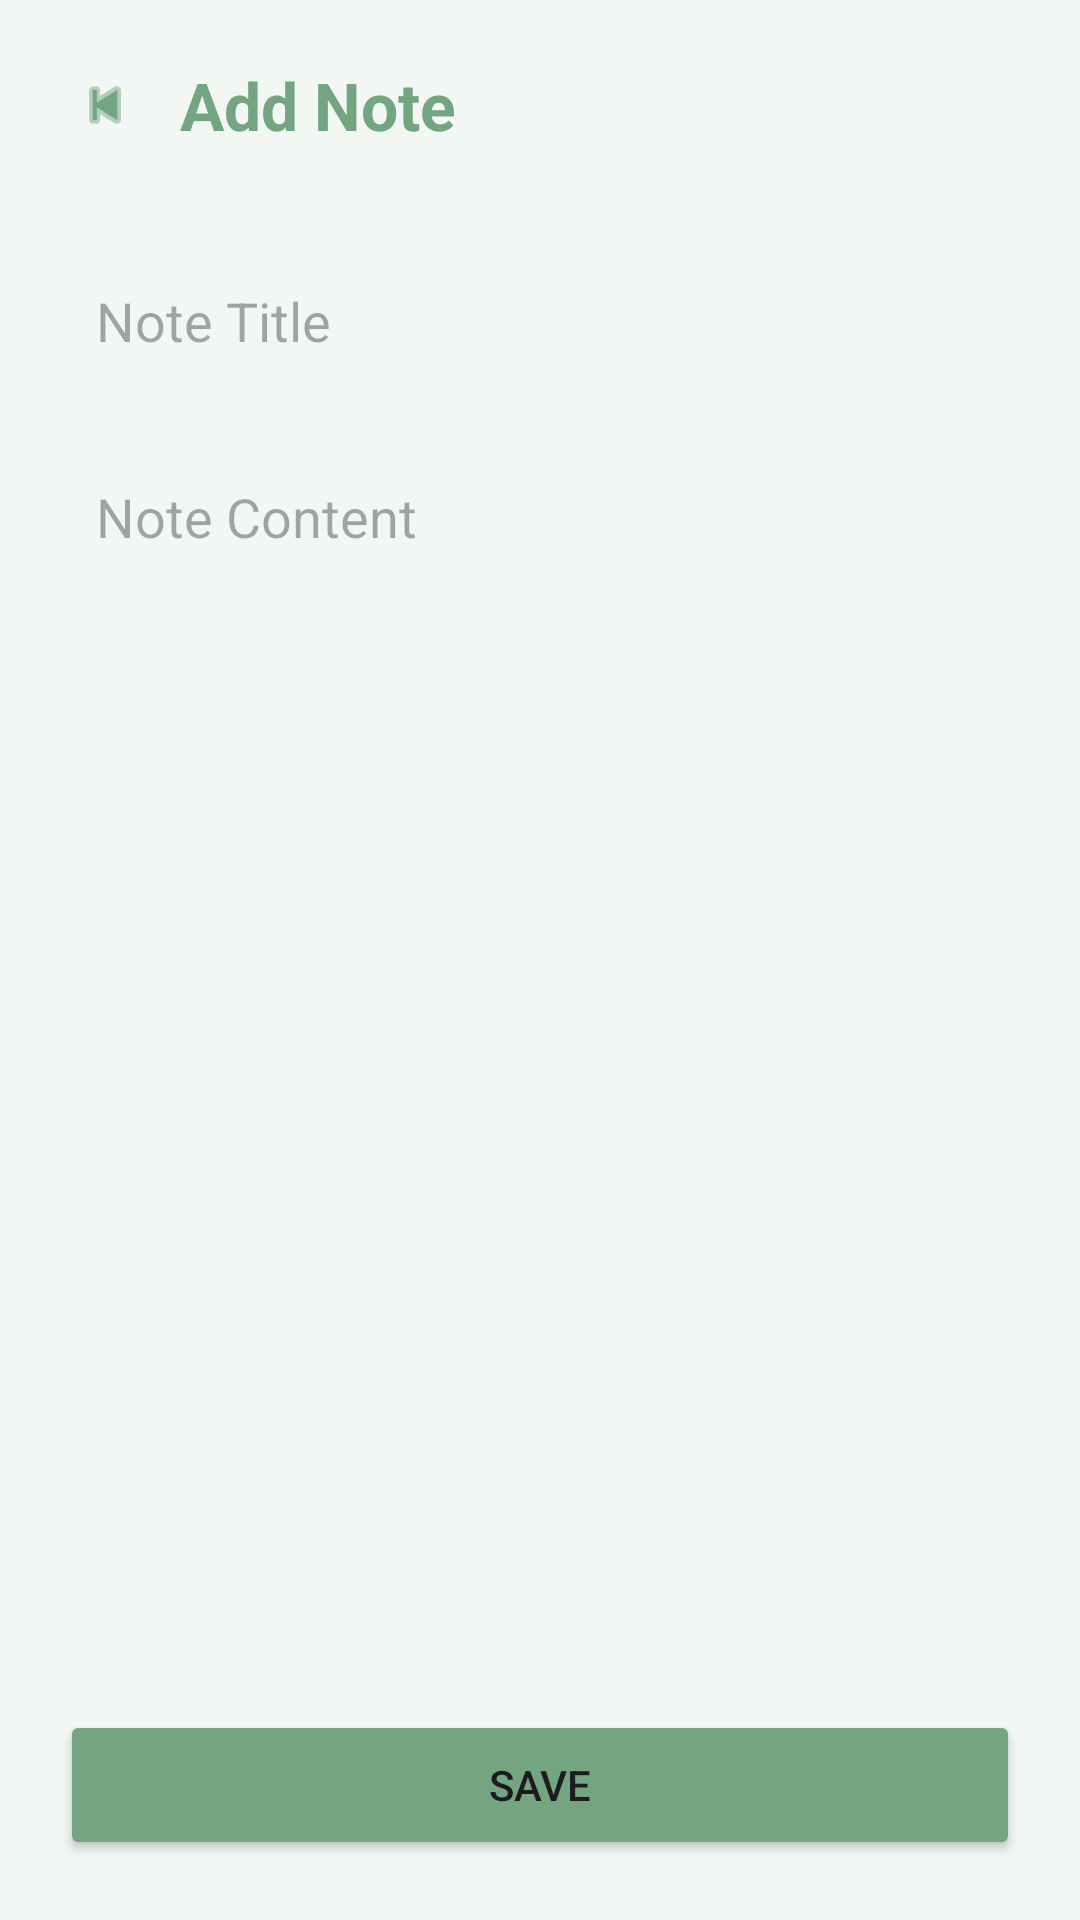

Where icons sit on this 1080x1920 app screen, as (x1,y1,x2,y2):
previous: (89,86,121,124)
